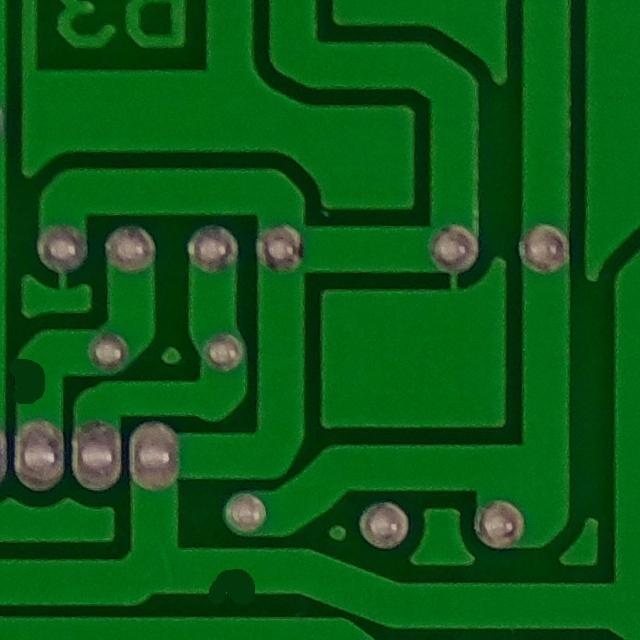mouse_bite: (190, 548, 271, 610), (6, 350, 61, 417)
